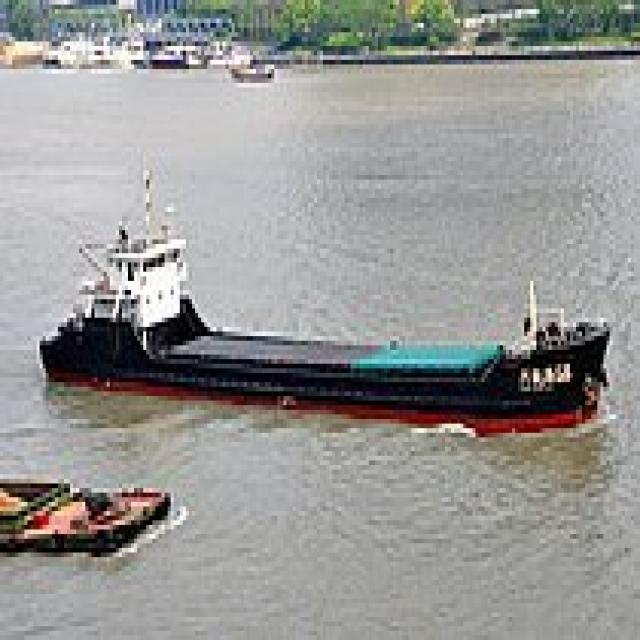Cargo: (33, 148, 612, 428)
